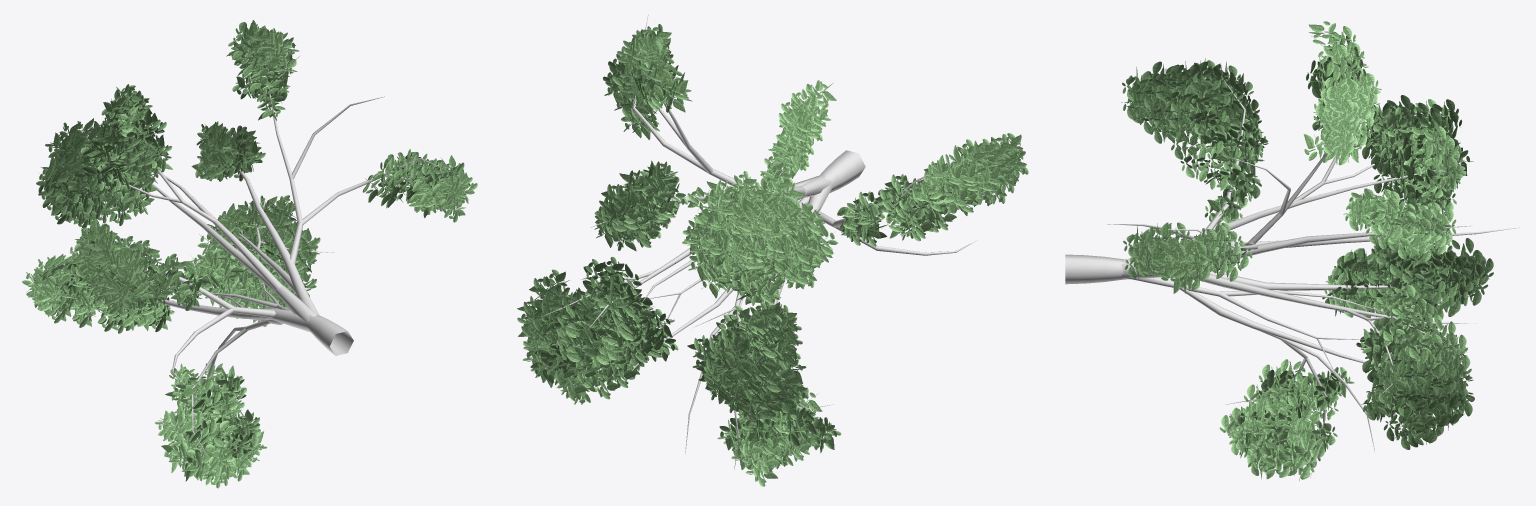
The model's file is Tree two fixed.fbx.
3 renders of one model, left to right at view 1: azimuth 30°, elevation 25°; view 2: azimuth 150°, elevation 25°; view 3: azimuth 270°, elevation 25°, orthographic. The views are drawn at different scales.
Parts seen in each view (by area): view 1: Original Leaves.001; view 2: Original Leaves.001; view 3: Original Leaves.001.
Boxes of the visible parts, x1=… form: Original Leaves.001: x1=22, y1=20, x2=477, y2=488; Original Leaves.001: x1=517, y1=14, x2=1028, y2=486; Original Leaves.001: x1=1065, y1=21, x2=1521, y2=480.
Size of the model in its own units: 568 by 596 by 537.
